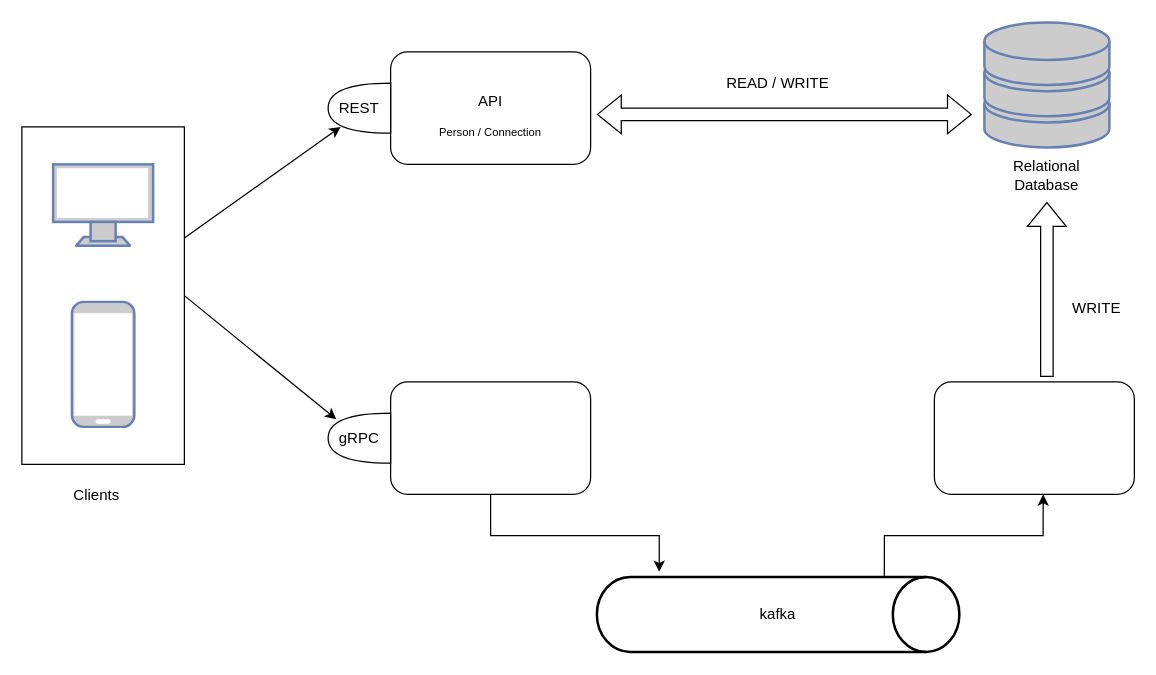
This 1156x675 diagram has some shape labels left out. Each missing label, with the centre of its shape:
Location Consumer: (x=1033, y=437)
Location Producer: (x=490, y=437)
